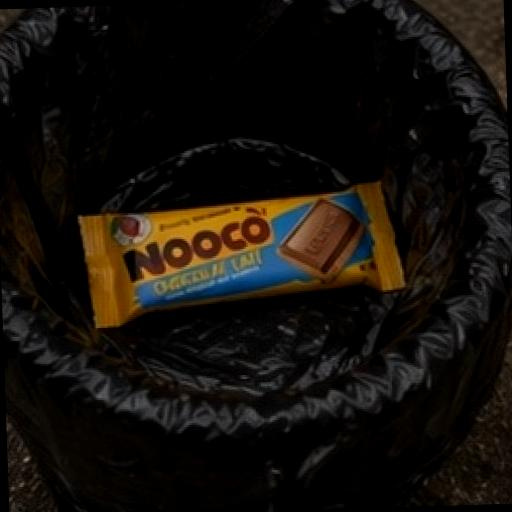biscuit-detection: (44, 154, 446, 340)
